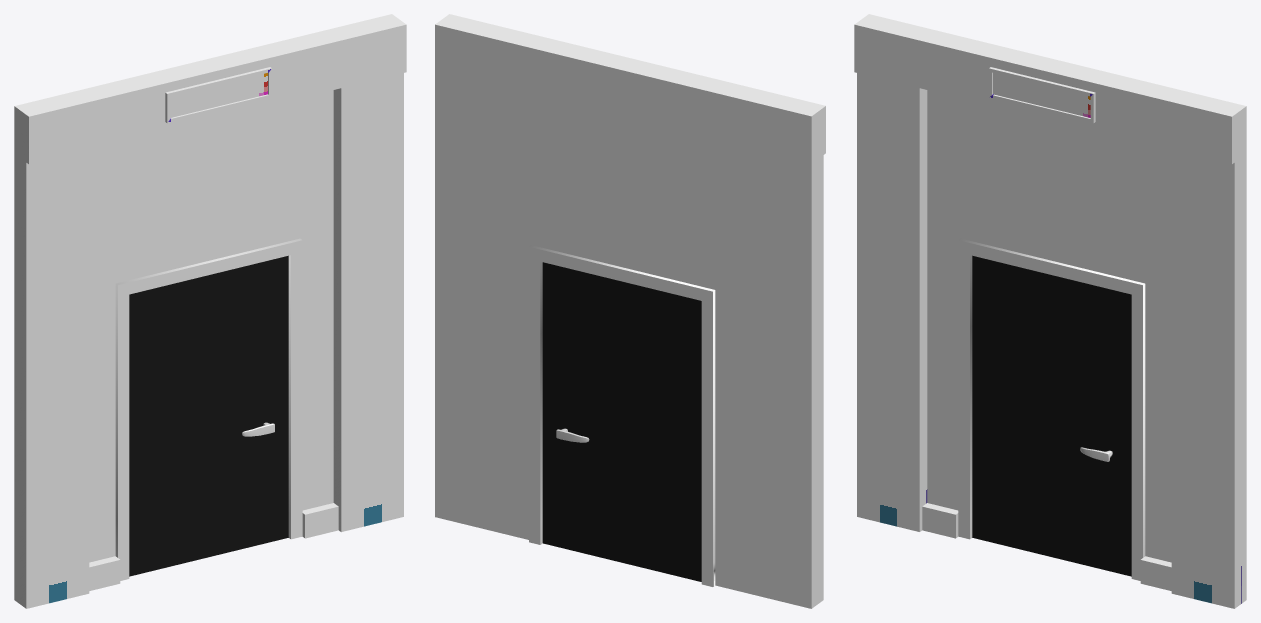
File: Hallway_Model_WallPanel_Default_Door.fbx
The picture shows the model from 3 angles, left to right: view 1: azimuth 30°, elevation 25°; view 2: azimuth 150°, elevation 25°; view 3: azimuth 330°, elevation 25°; orthographic projection.
Visible parts, largest first — view 1: BaytekMall_Hallway_WallPanel_Straight, Door; view 2: BaytekMall_Hallway_WallPanel_Straight, Door; view 3: BaytekMall_Hallway_WallPanel_Straight, Door.
Boxes of the visible parts, <box> form: BaytekMall_Hallway_WallPanel_Straight: <box>14,14,406,608</box>; Door: <box>129,255,288,576</box>; BaytekMall_Hallway_WallPanel_Straight: <box>435,14,825,608</box>; Door: <box>542,262,701,581</box>; BaytekMall_Hallway_WallPanel_Straight: <box>854,14,1246,608</box>; Door: <box>972,255,1131,576</box>.
Bounding box in the file's own units: 400 × 500 × 40.83.
